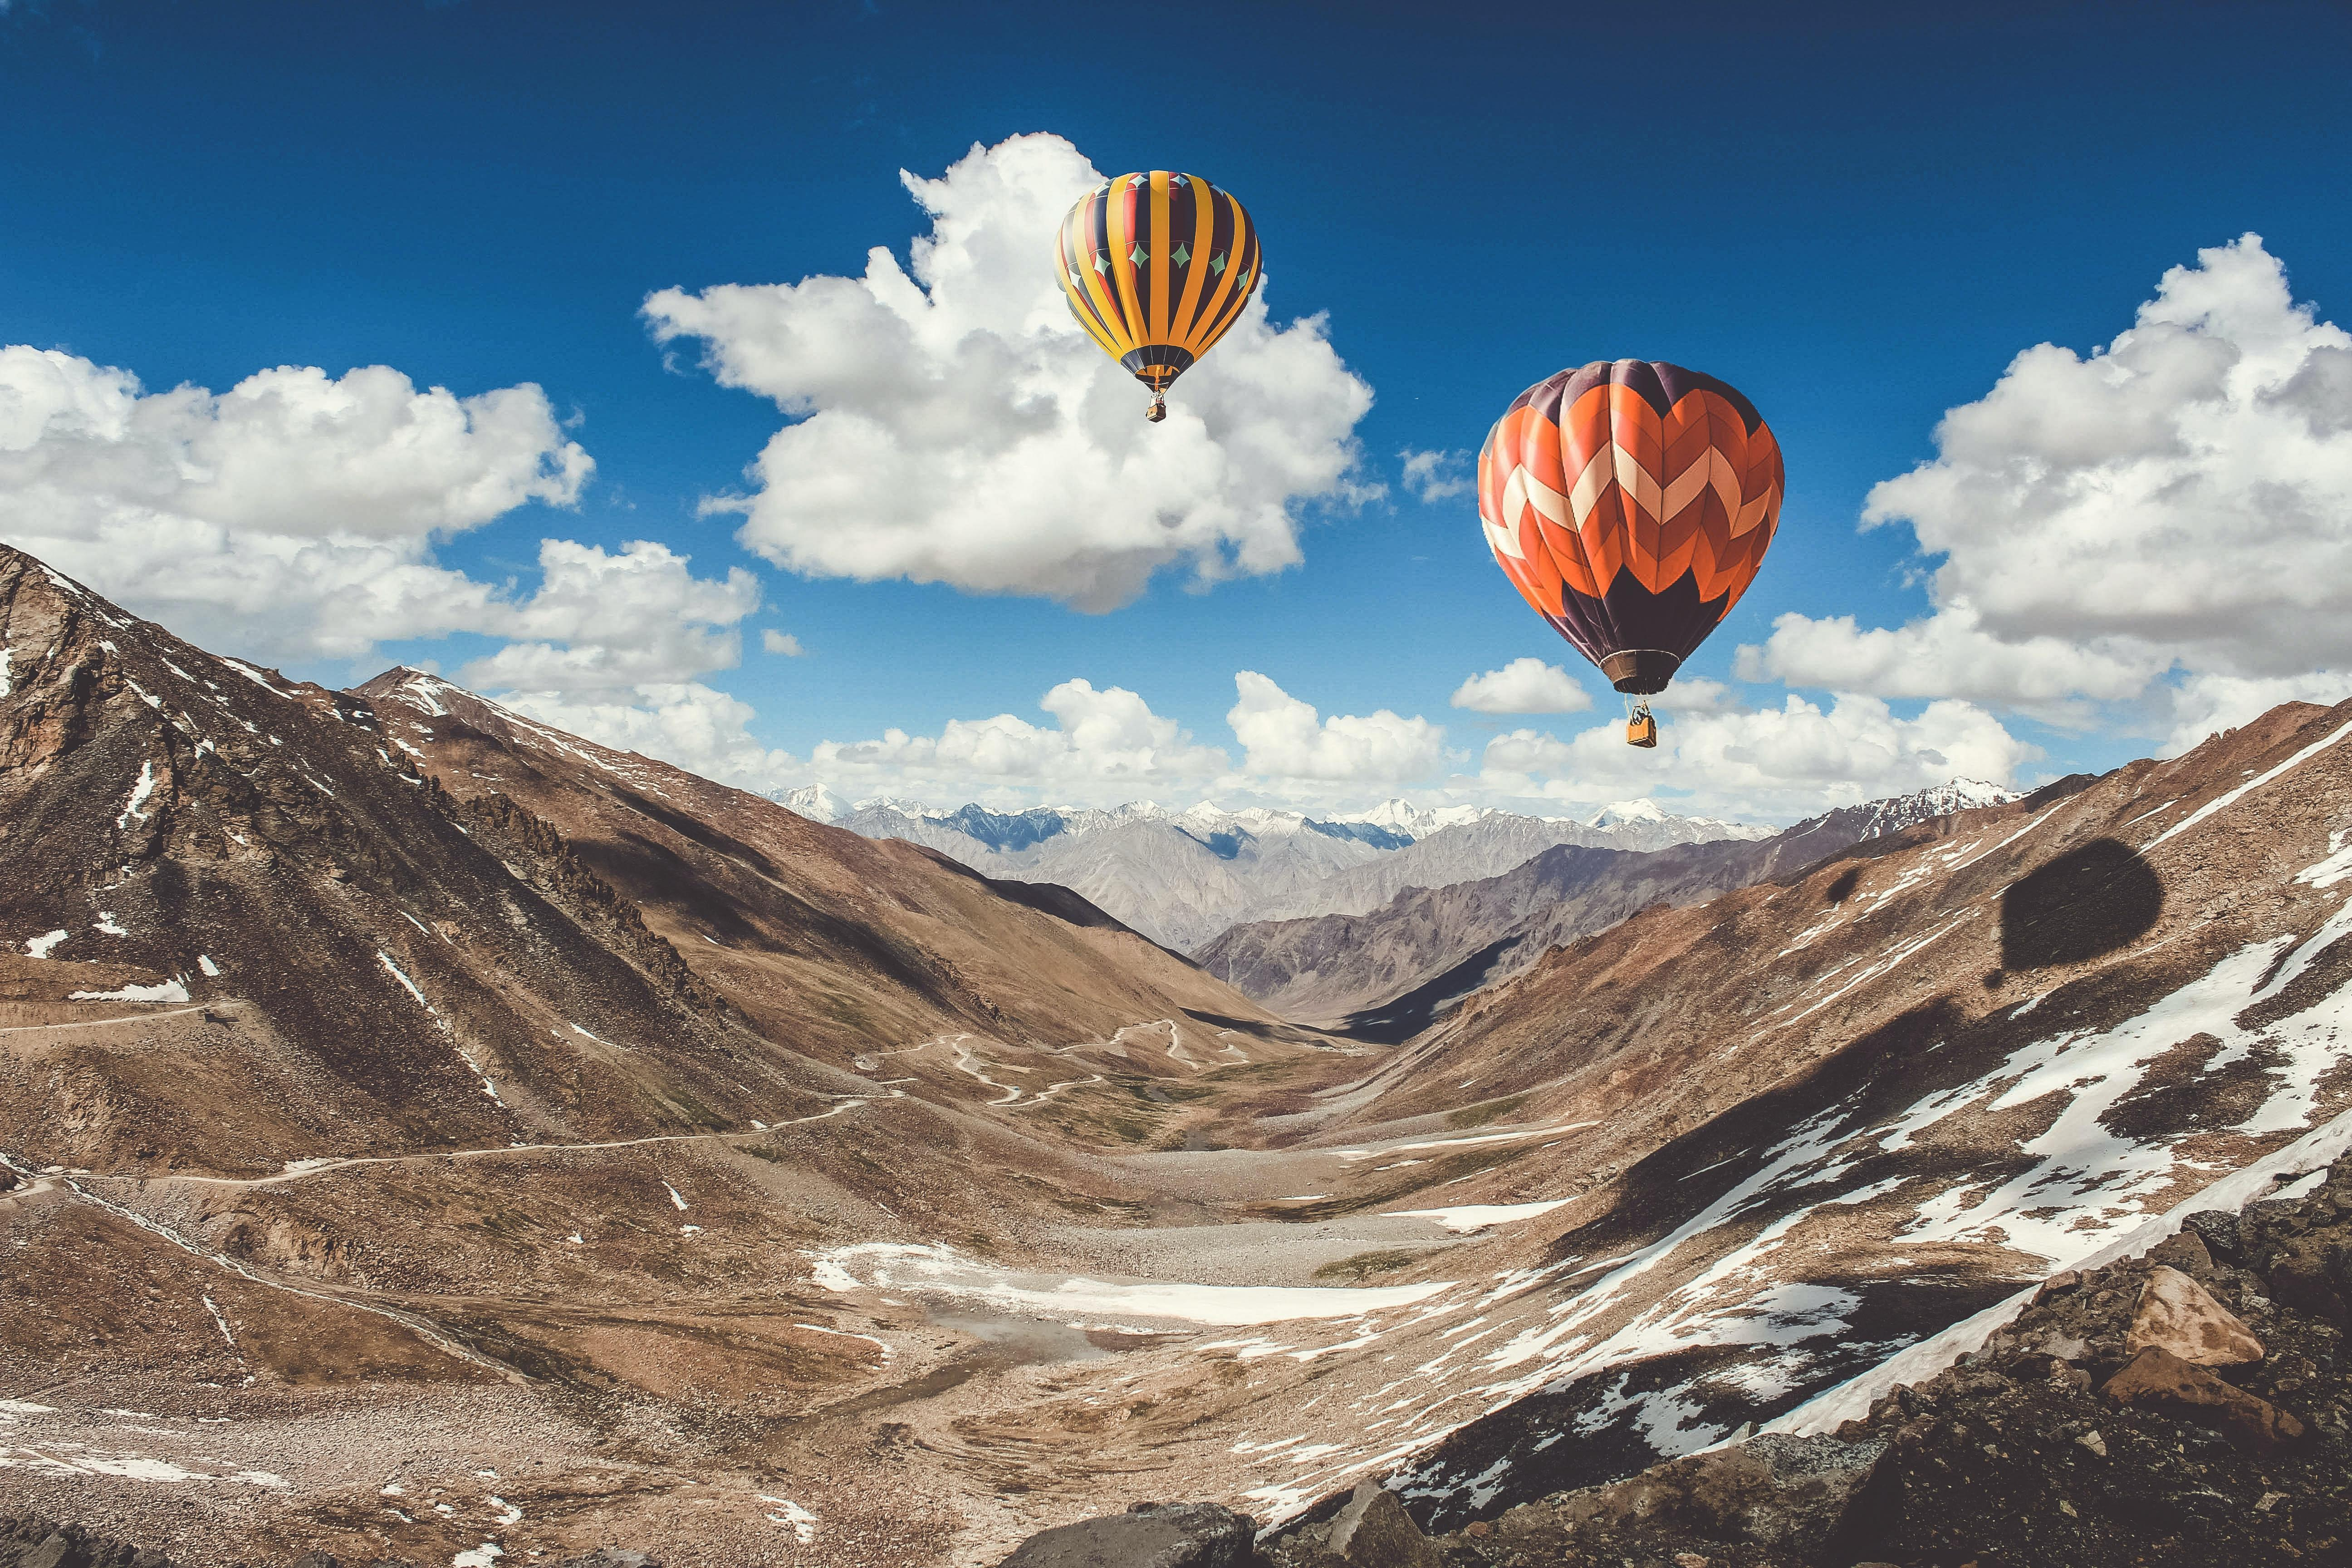hot air ballon: (1477, 360, 1785, 747), (1053, 170, 1264, 423)
